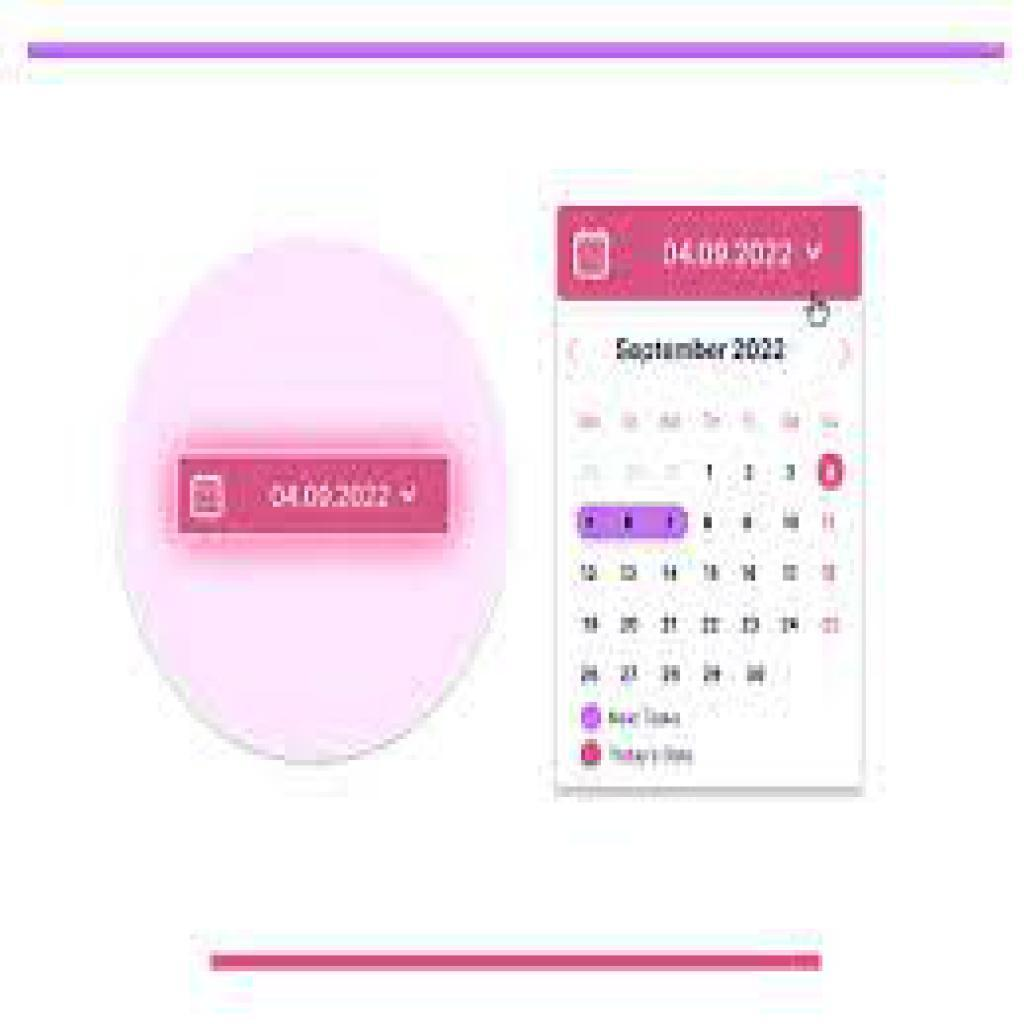dropdown: (558, 206, 864, 300), (181, 456, 450, 532)
